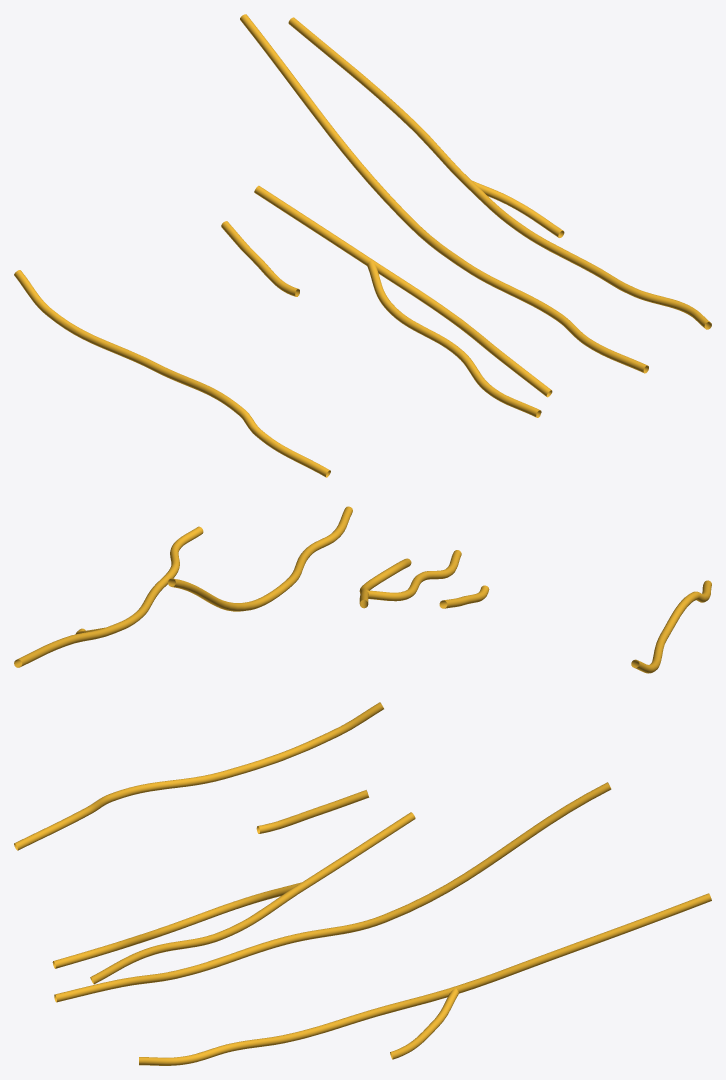
File: nervoso-dorsal-digital-branches-of-superficial-fibular-nerve-l.glb
3 views of the same model, one above another, from view 1: azimuth 30°, elevation 25°; view 2: azimuth 150°, elevation 25°; view 3: azimuth 270°, elevation 25° (orthographic). The views are drawn at different scales.
Parts seen in each view (by area): view 1: Dorsal digital branches of superficial fibular nerve.l; view 2: Dorsal digital branches of superficial fibular nerve.l; view 3: Dorsal digital branches of superficial fibular nerve.l.
Boxes of the visible parts, x1,y1,x2,y2 form: Dorsal digital branches of superficial fibular nerve.l: [14, 14, 711, 477]; Dorsal digital branches of superficial fibular nerve.l: [14, 506, 711, 673]; Dorsal digital branches of superficial fibular nerve.l: [14, 702, 711, 1065].
Size of the model in its own units: 0.0765 by 0.0248 by 0.0845.
